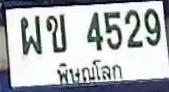2: (124, 9, 142, 47)
4: (86, 11, 102, 50)
5: (103, 11, 122, 49)
9: (143, 8, 160, 45)
A02: (45, 13, 66, 52)
A28: (20, 15, 42, 54)
PLK: (51, 57, 126, 85)
